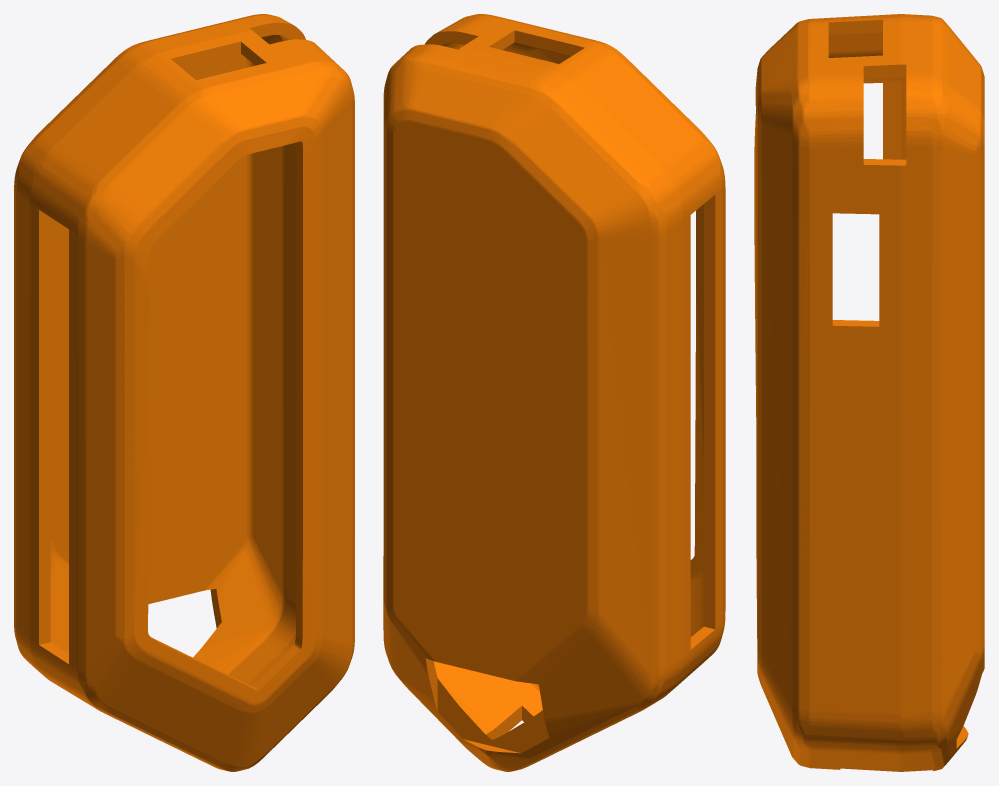
File: flipper_zero_case_orange.glb
3 views of the same model, side by side, from view 1: azimuth 30°, elevation 25°; view 2: azimuth 150°, elevation 25°; view 3: azimuth 270°, elevation 25° (orthographic). The views are drawn at different scales.
Visible parts, largest first — view 1: coque; view 2: coque; view 3: coque.
Boxes of the visible parts, <box> form: coque: <box>14,14,354,771</box>; coque: <box>383,14,725,771</box>; coque: <box>754,14,984,771</box>.
Bounding box in the file's own units: 44.28 × 104 × 29.69.
